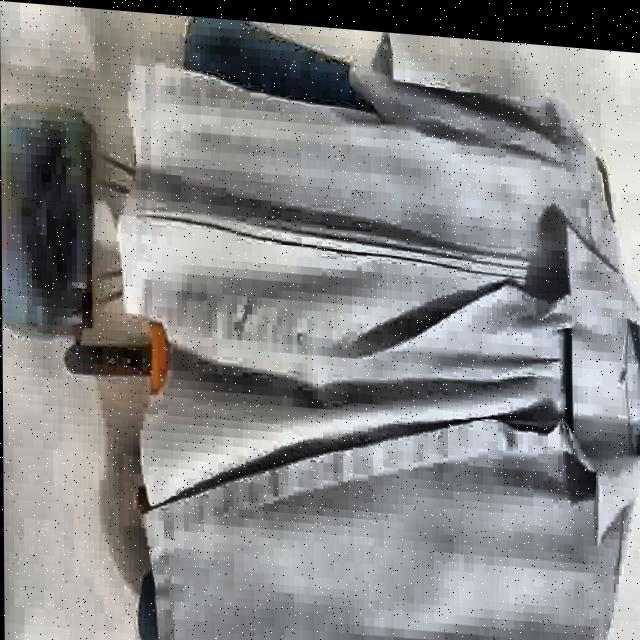clothes: (112, 9, 640, 640)
